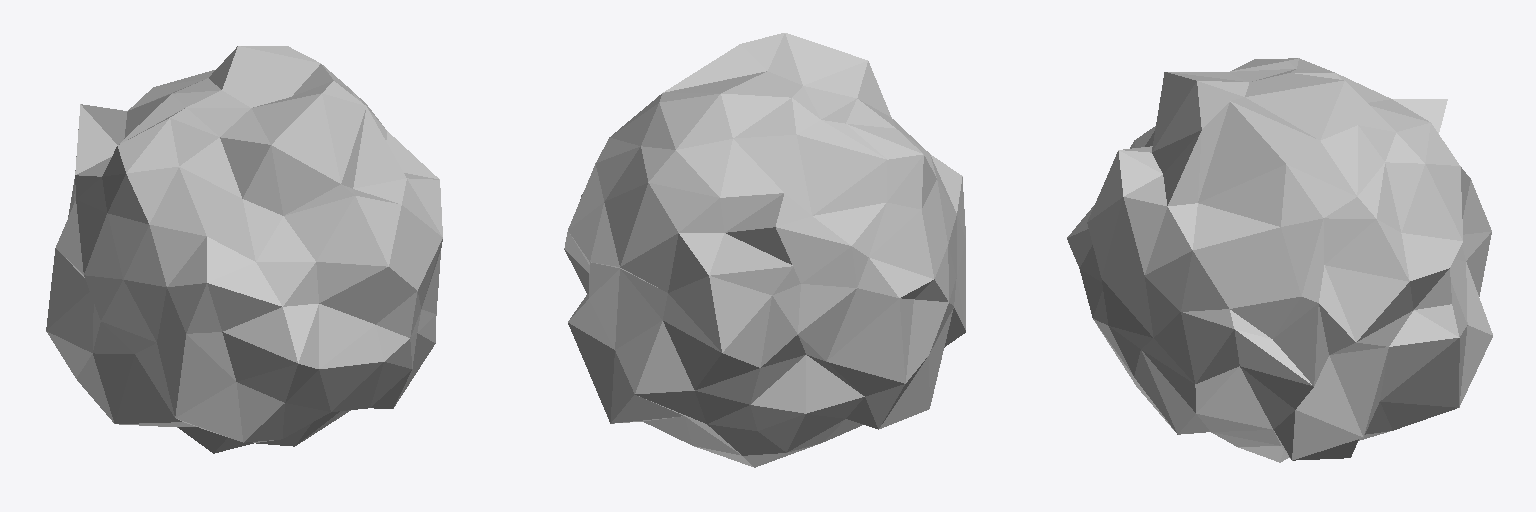
File: fire_000012.obj
3 renders of one model, left to right at view 1: azimuth 30°, elevation 25°; view 2: azimuth 150°, elevation 25°; view 3: azimuth 270°, elevation 25°, orthographic.
Visible parts, largest first — view 1: Icosphere; view 2: Icosphere; view 3: Icosphere.
Boxes of the visible parts, x1,y1,x2,y2 form: Icosphere: [46, 46, 442, 453]; Icosphere: [564, 33, 965, 467]; Icosphere: [1067, 58, 1492, 462].
Bounding box in the file's own units: 1.52 × 1.57 × 1.62.